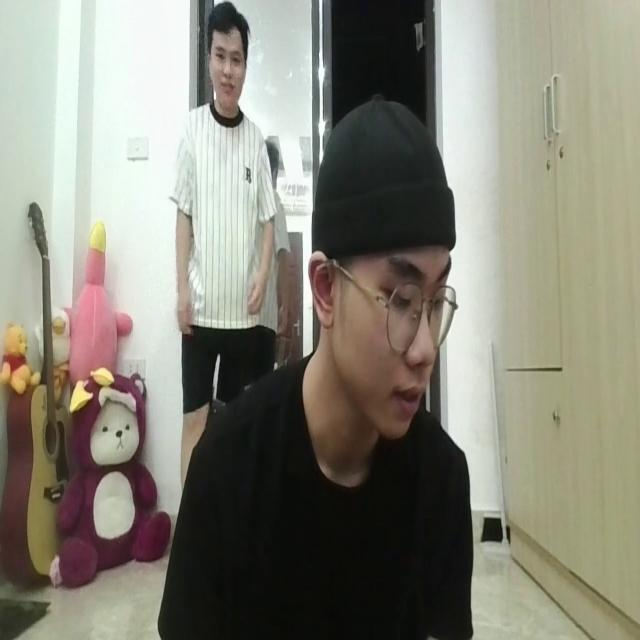extra_person: (164, 0, 272, 393)
student: (163, 94, 473, 640)
